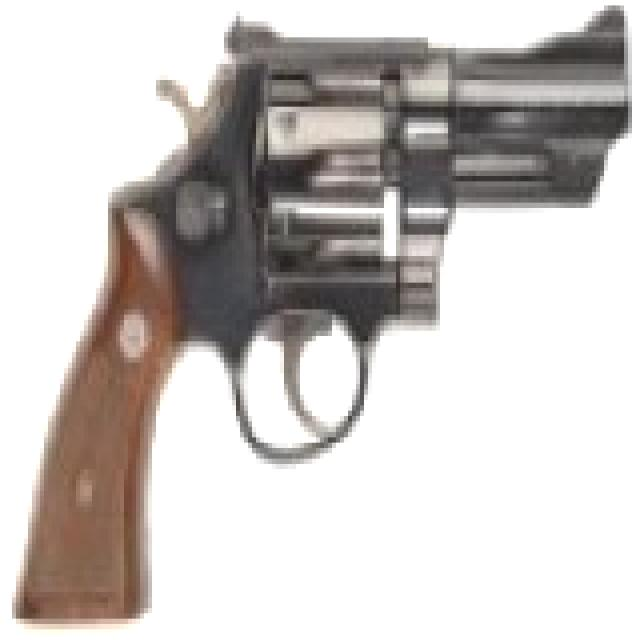pistol: (16, 6, 636, 614)
